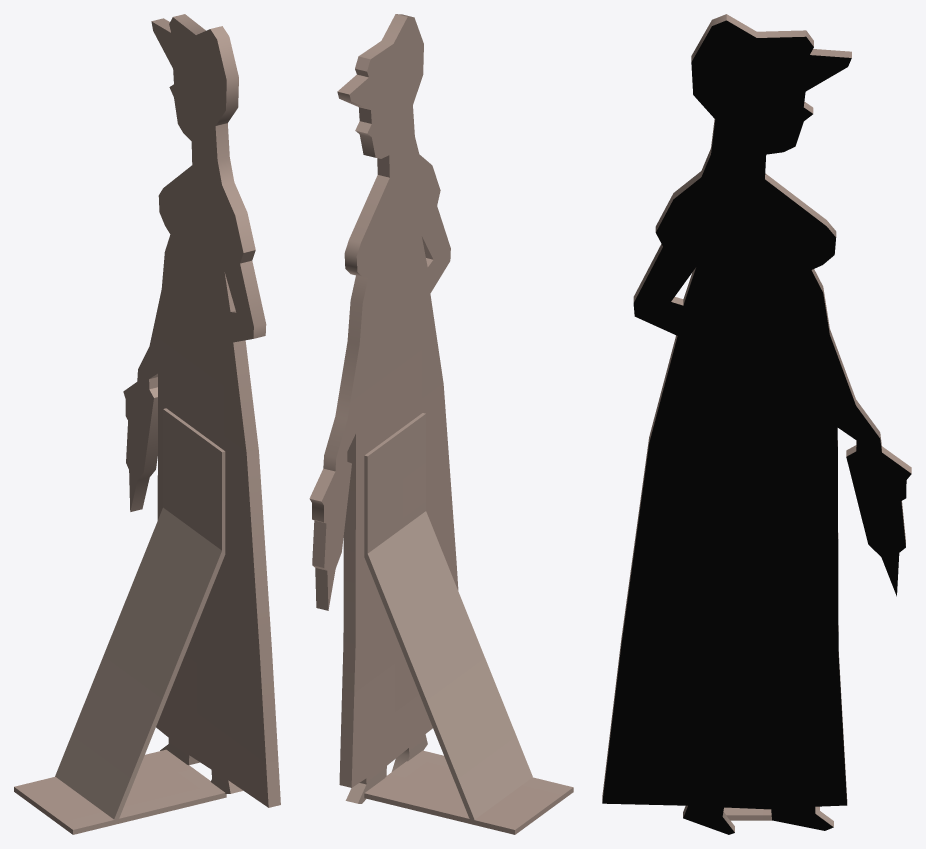
File: Dame 2.FBX
3 views of the same model, side by side, from view 1: azimuth 30°, elevation 25°; view 2: azimuth 150°, elevation 25°; view 3: azimuth 270°, elevation 25° (orthographic). The views are drawn at different scales.
Parts seen in each view (by area): view 1: Dame 2; view 2: Dame 2; view 3: Dame 2.
Part boxes in pixels (x1,y1,x2,y2): Dame 2: (14, 14, 280, 834); Dame 2: (309, 14, 573, 834); Dame 2: (602, 14, 911, 834).
Size of the model in its own units: 40.25 by 179 by 61.57.
